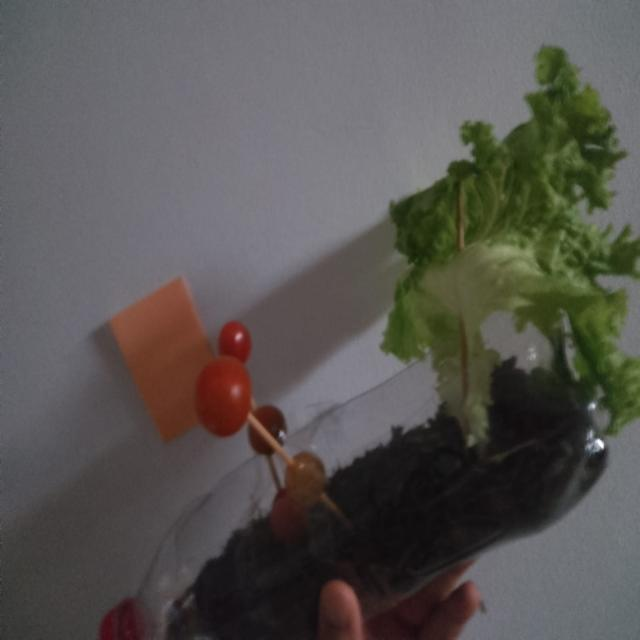card: (110, 277, 213, 440)
fruit_maturation: (285, 452, 327, 507)
fully_grown: (196, 321, 253, 436), (195, 356, 251, 437), (270, 489, 307, 542), (254, 405, 287, 445), (249, 428, 273, 455)
